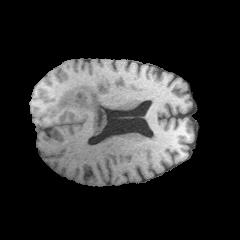glioma: (47, 82, 128, 135)
